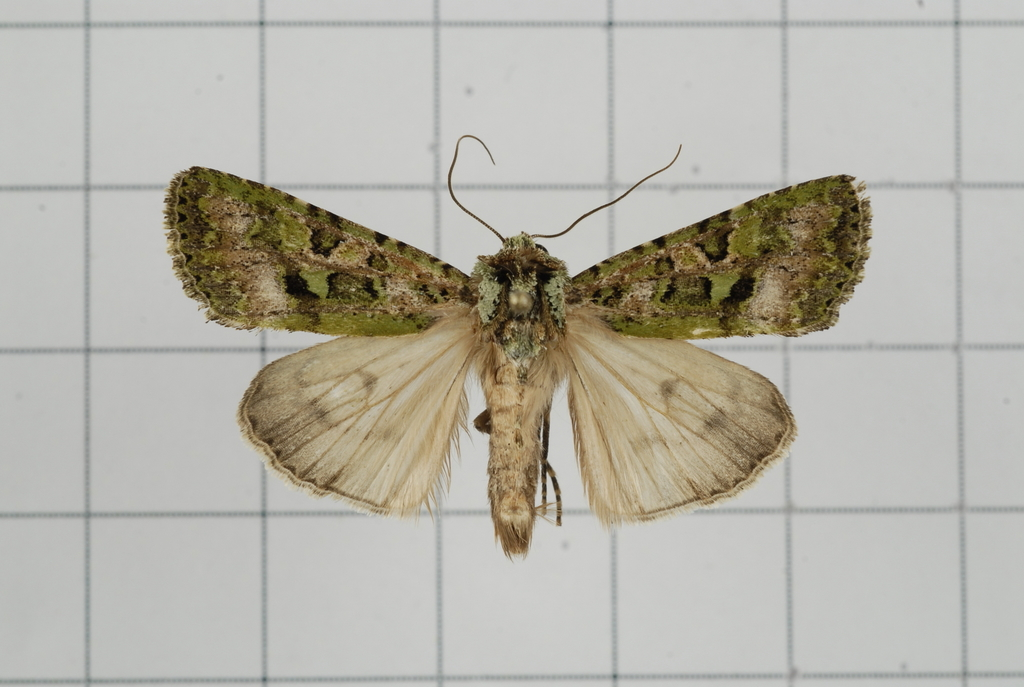Butterfly: (159, 118, 899, 563)
